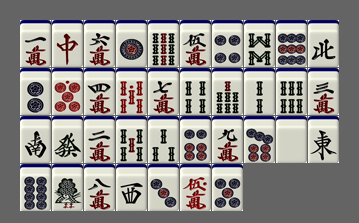0m: (180, 164, 211, 211)
0p: (52, 68, 83, 115)
0s: (116, 68, 147, 115)
1m: (20, 20, 51, 67)
1p: (116, 20, 147, 67)
1s: (52, 164, 83, 211)
1z: (308, 116, 339, 163)
2m: (84, 116, 115, 163)
2p: (20, 68, 51, 115)
2s: (244, 68, 275, 115)
2z: (20, 116, 51, 163)
3m: (308, 68, 339, 115)
3p: (148, 164, 179, 211)
3s: (148, 116, 179, 163)
3z: (116, 164, 147, 211)
4m: (84, 68, 115, 115)
4p: (212, 20, 243, 67)
4s: (180, 68, 211, 115)
4z: (308, 20, 339, 67)
5m: (180, 20, 211, 67)
5p: (212, 164, 243, 211)
5s: (116, 116, 147, 163)
5z: (276, 116, 307, 163)
6m: (84, 20, 115, 67)
6p: (180, 116, 211, 163)
6s: (276, 68, 307, 115)
6z: (52, 116, 83, 163)
7m: (148, 68, 179, 115)
7p: (244, 116, 275, 163)
7s: (212, 68, 243, 115)
7z: (52, 20, 83, 67)
8m: (84, 164, 115, 211)
8p: (20, 164, 51, 211)
8s: (244, 20, 275, 67)
9m: (212, 116, 243, 163)
9p: (276, 20, 307, 67)
9s: (148, 20, 179, 67)
